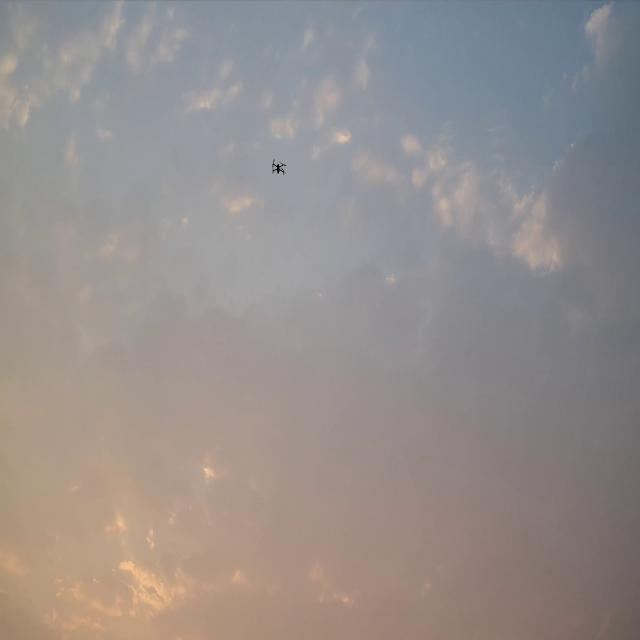drone: (272, 159, 286, 175)
